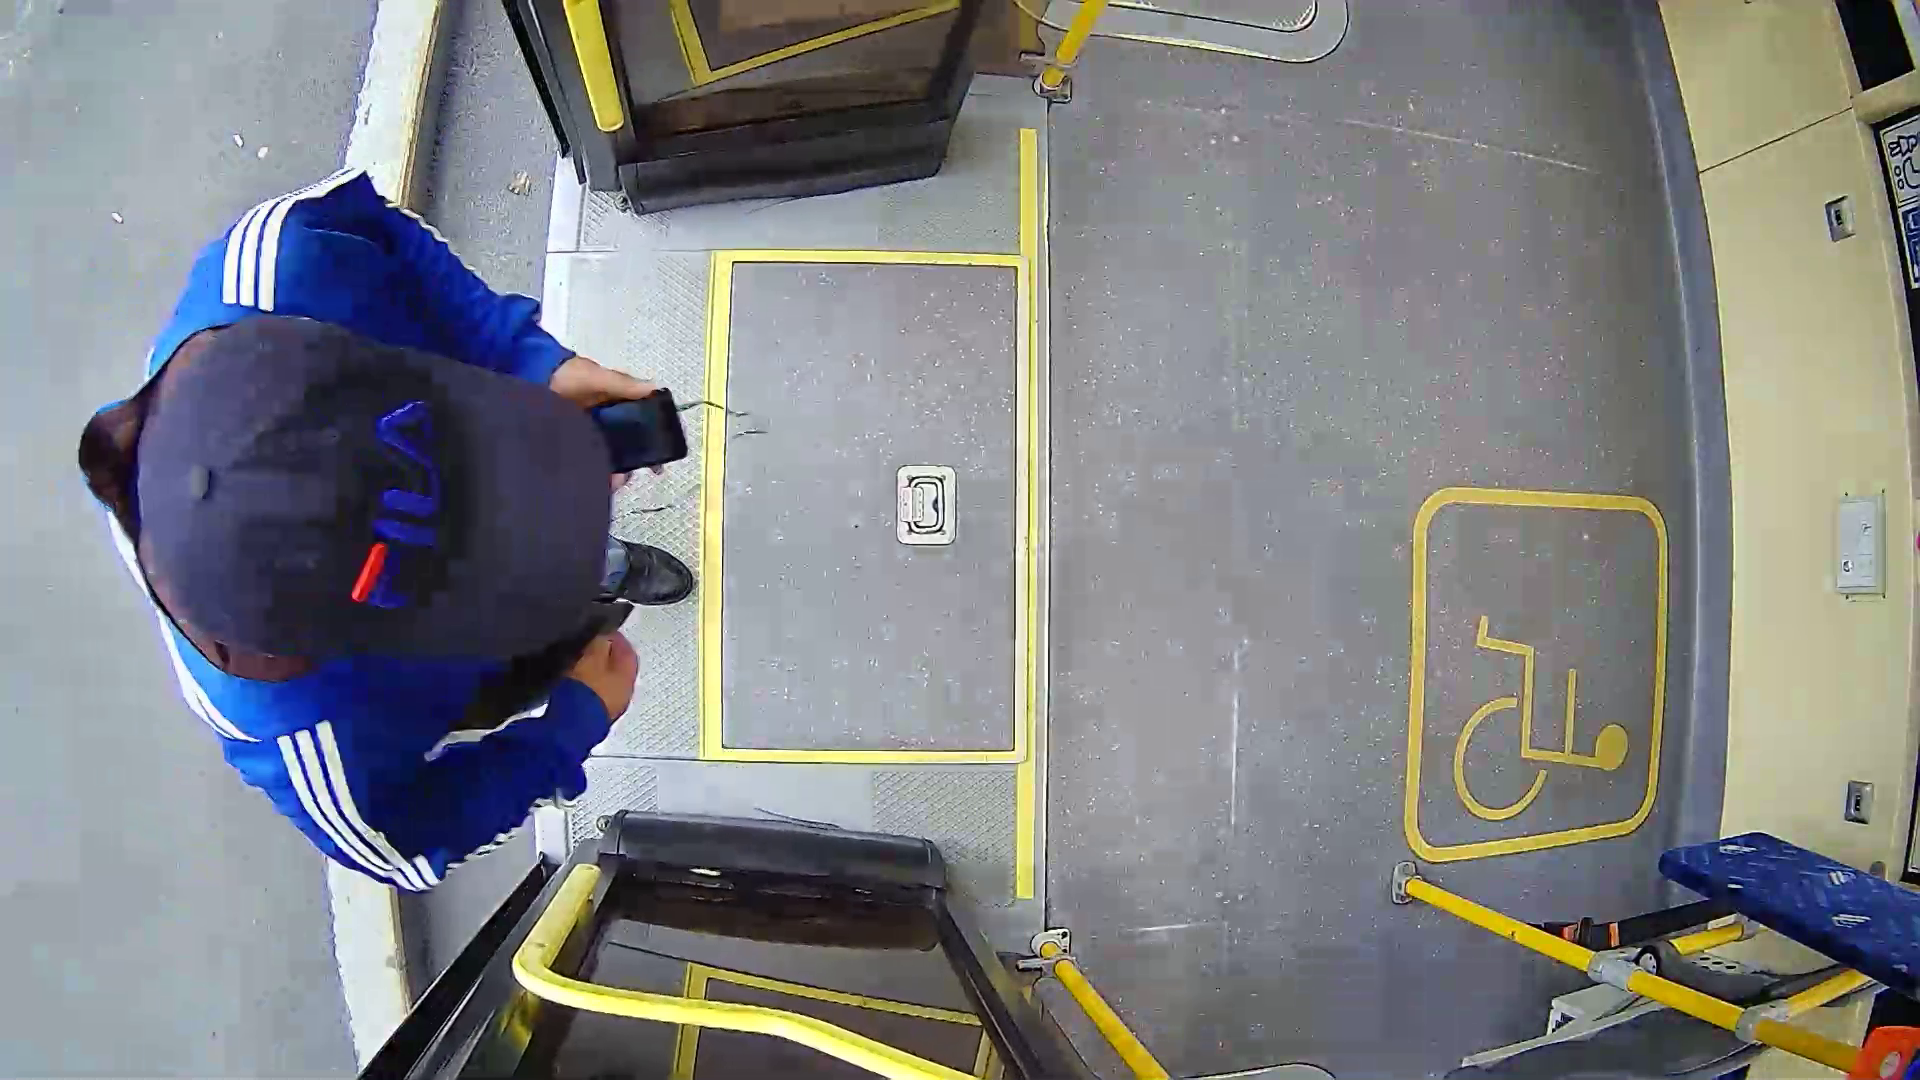person: (71, 218, 718, 808)
